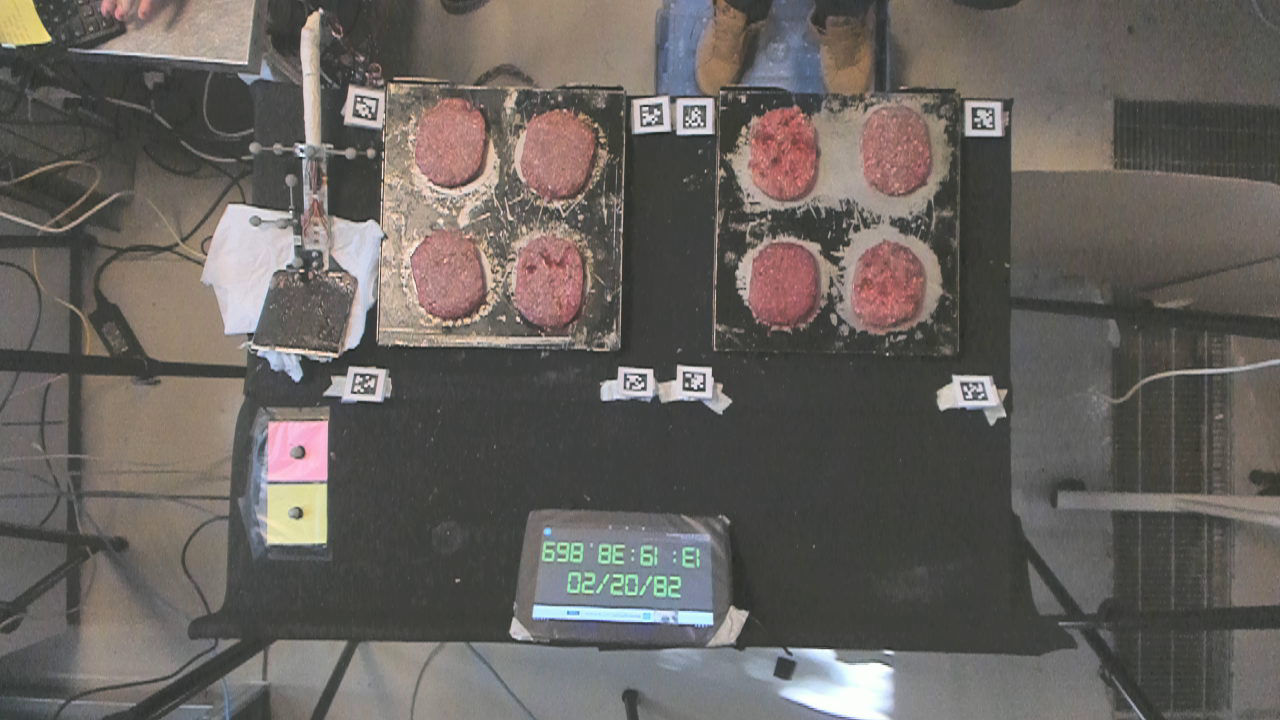hamburger: (516, 104, 597, 198), (511, 237, 591, 331), (407, 236, 492, 324), (748, 102, 822, 199), (850, 240, 929, 329), (415, 93, 489, 188), (859, 101, 933, 195), (748, 239, 823, 329)
marker: (267, 420, 328, 483)
